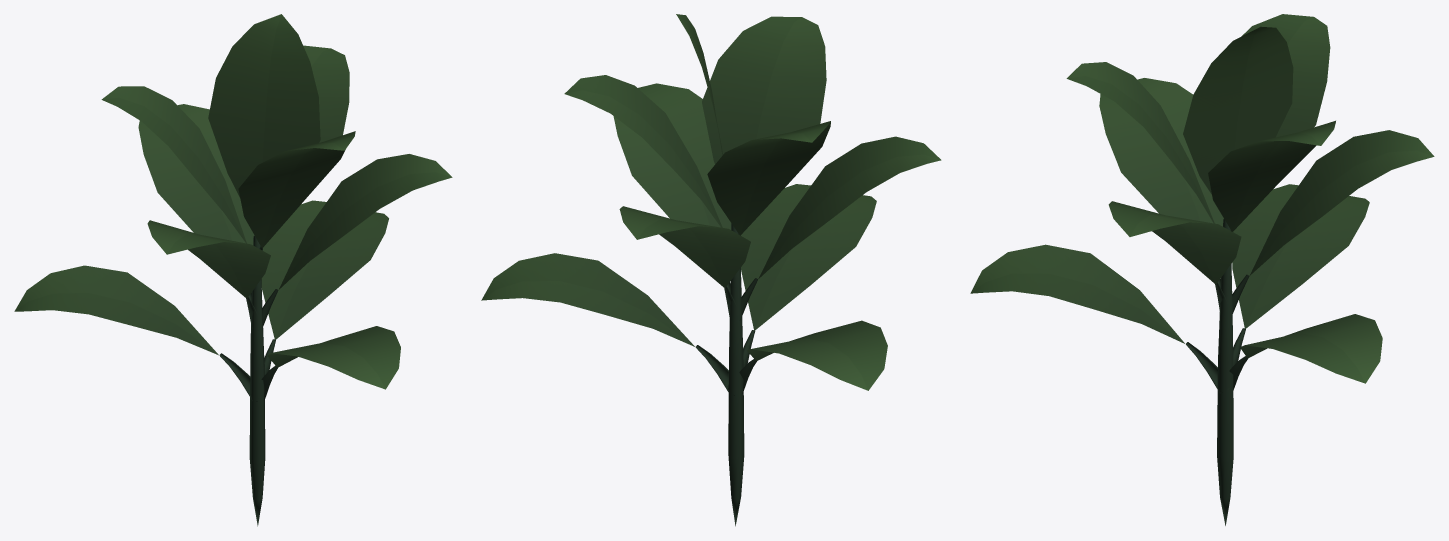
Rendered from plants-leafy-plants-leaf-rosette_v3.fbx.
3 renders of one model, left to right at view 1: azimuth 30°, elevation 25°; view 2: azimuth 150°, elevation 25°; view 3: azimuth 270°, elevation 25°, orthographic. The views are drawn at different scales.
Parts seen in each view (by area): view 1: Leaf Rosette_v3; view 2: Leaf Rosette_v3; view 3: Leaf Rosette_v3.
Part boxes in pixels (<box>): Leaf Rosette_v3: <box>14,14,452,526</box>; Leaf Rosette_v3: <box>481,14,941,526</box>; Leaf Rosette_v3: <box>970,14,1434,525</box>.
Bounding box in the file's own units: 0.3886 × 0.5 × 0.4038.
